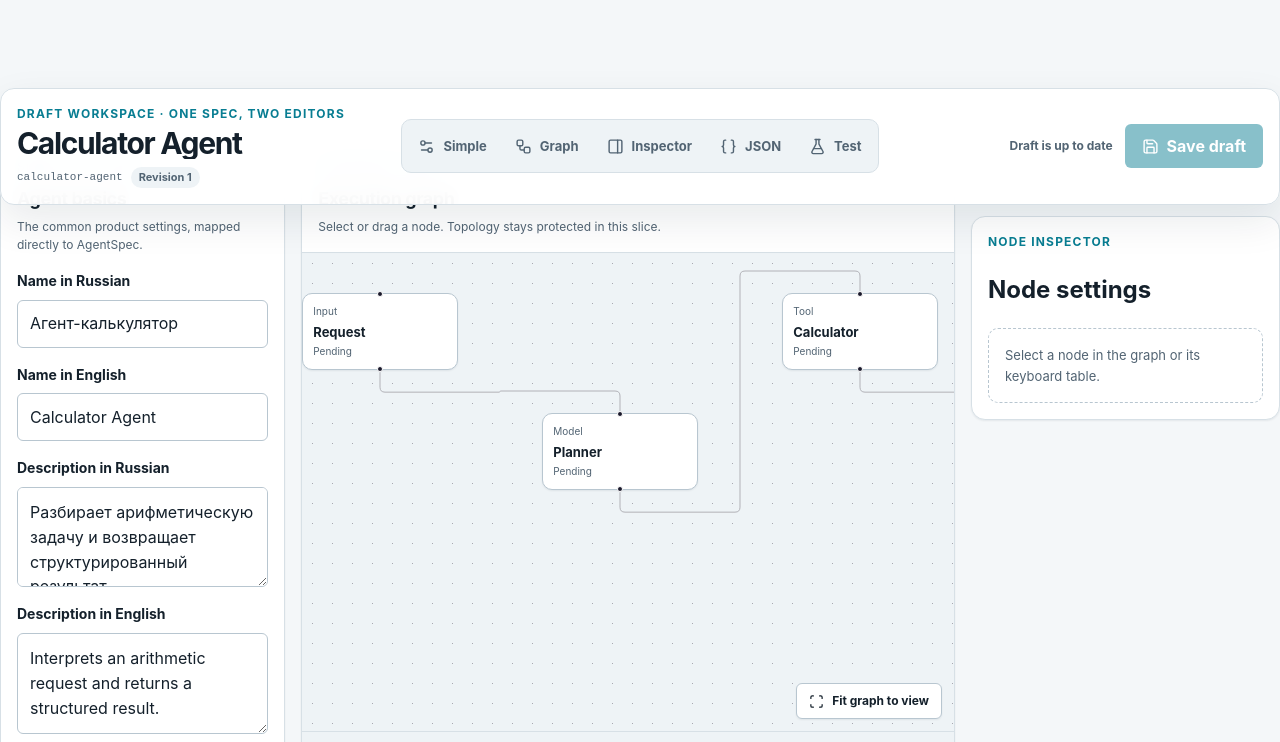
Test: dual-view draft workspace › edits one shared AgentSpec and saves the authoritative revision
Clear the field labelled "Name in English" at point(143, 417), box [17,393,268,441]
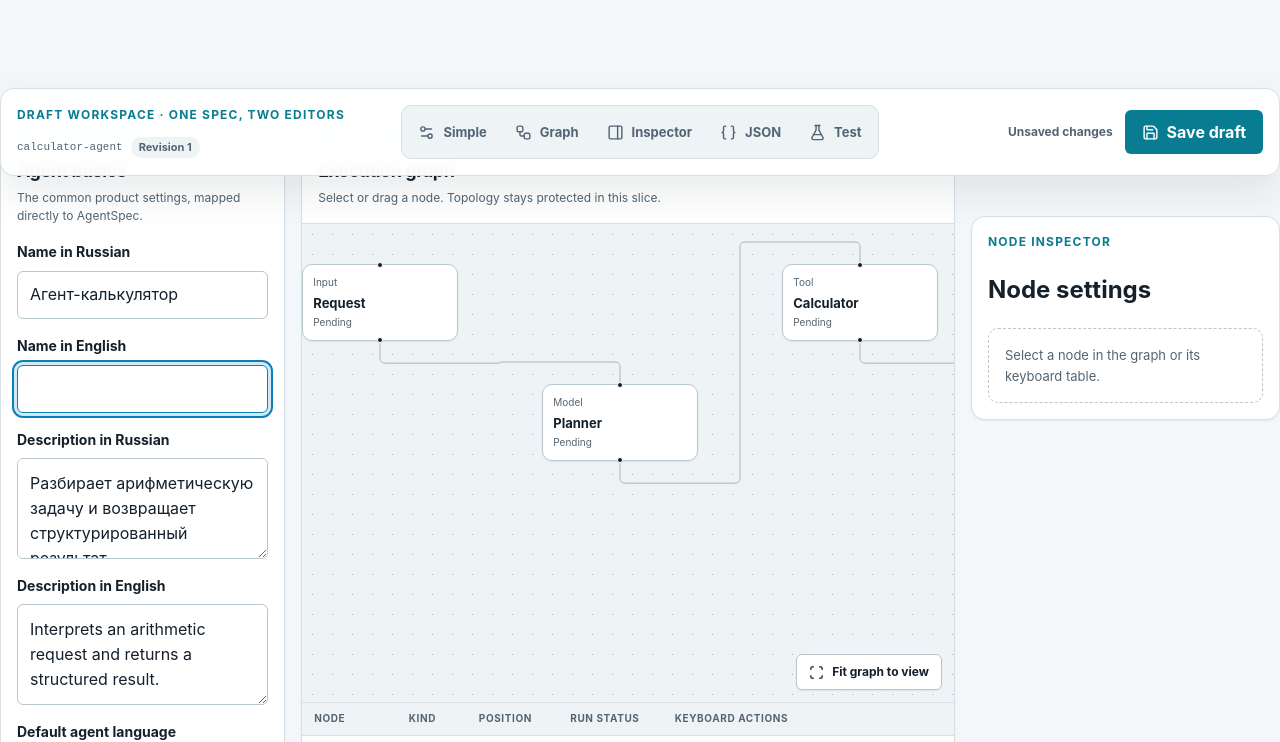
Type "Math Agent" into the field labelled "Name in English" at point(143, 389), box [17,365,268,413]
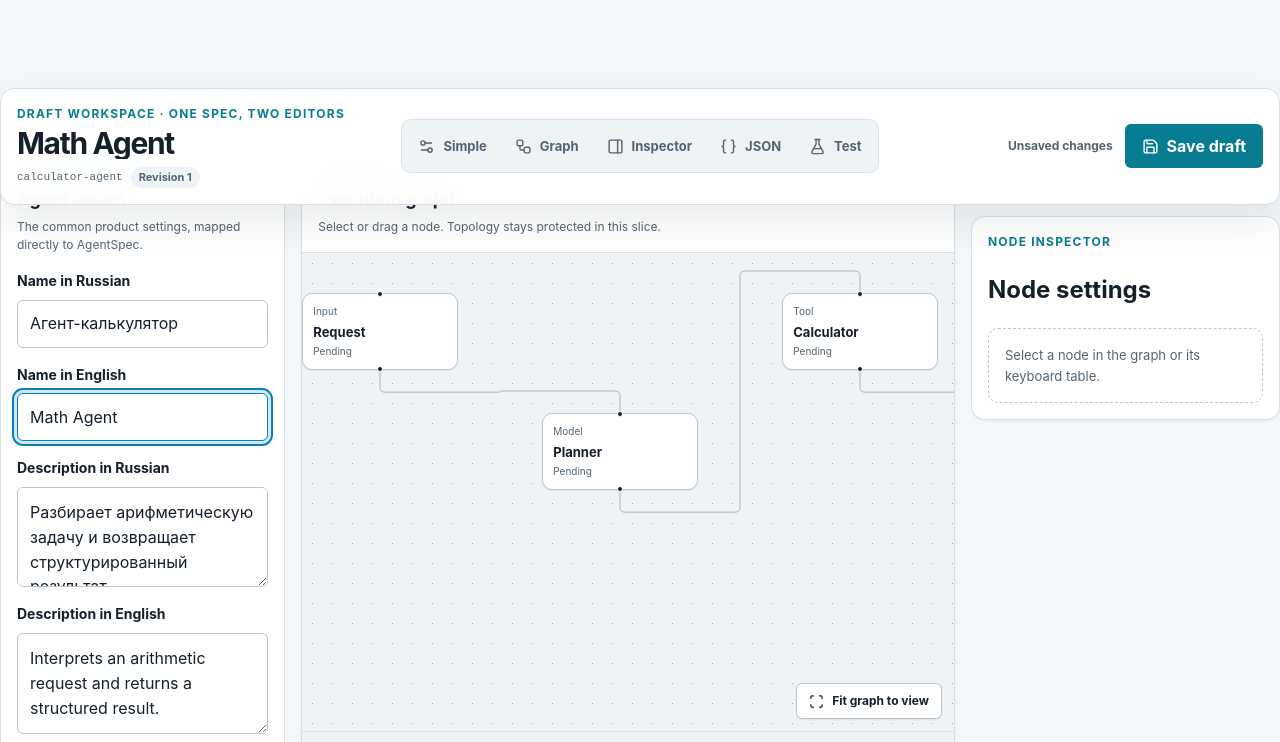
Check: the message reads "Unsaved changes", box [1008,138,1113,153]
Click the button "Save draft" at point(1194, 146), box [1125,124,1263,168]
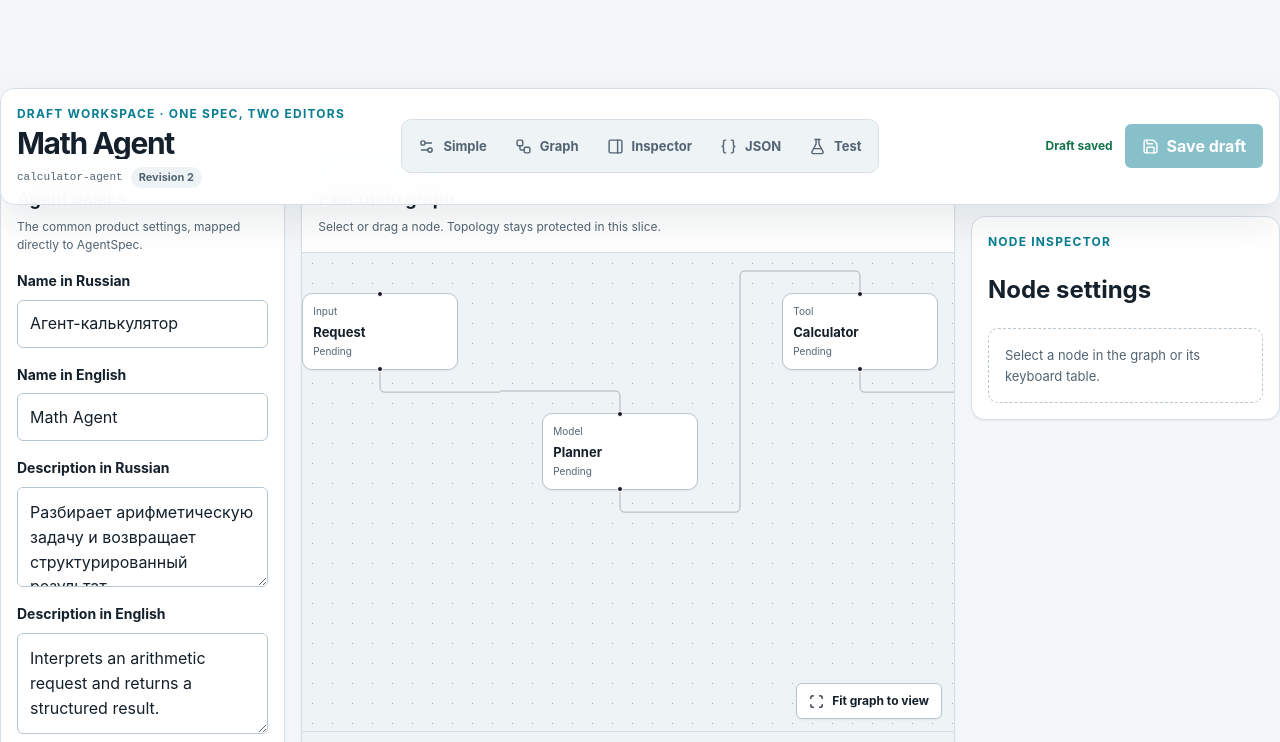
Check: the message reads "Draft saved", box [1046,138,1113,153]
